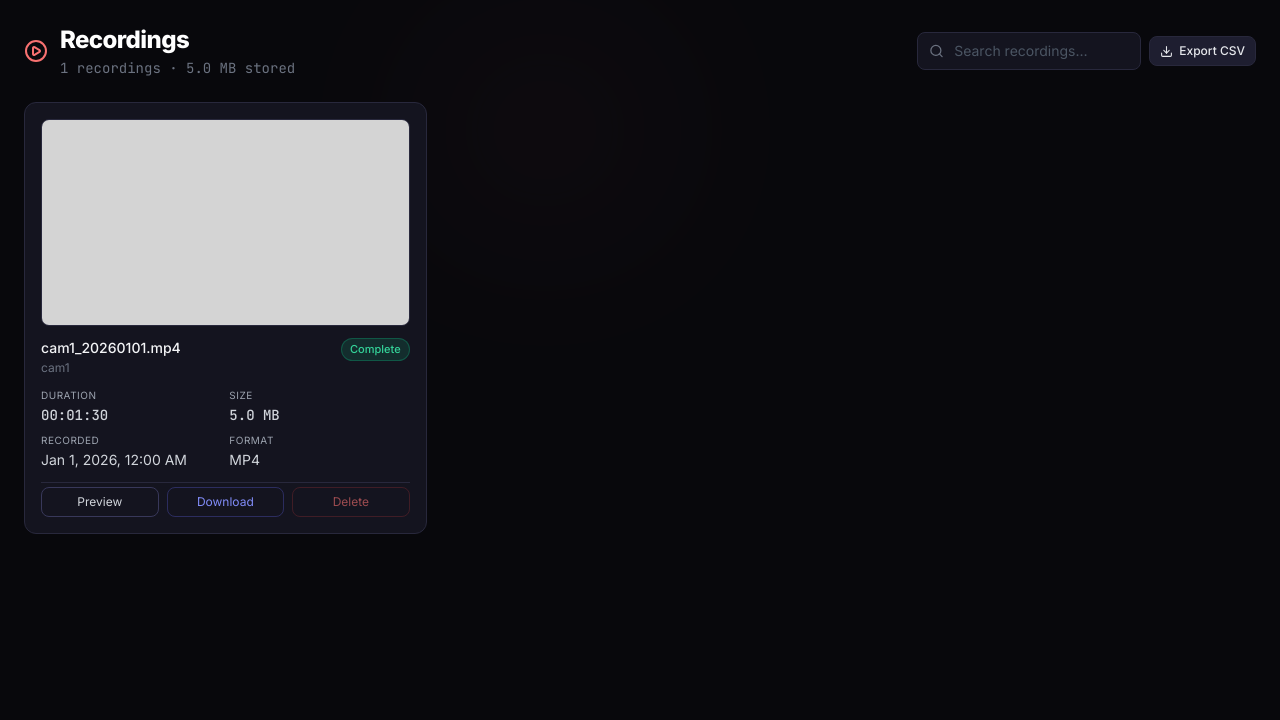
Test case: RecordingsPage › shows an error toast and restores the recording if the delete fails after the grace period
The image size is (1280, 720).
Check: the text "cam1_20260101.mp4" is shown, box [41,338,181,358]
Click the button "Delete". click: [351, 502]
box: [292,487,410,517]
Wait 6001 ms
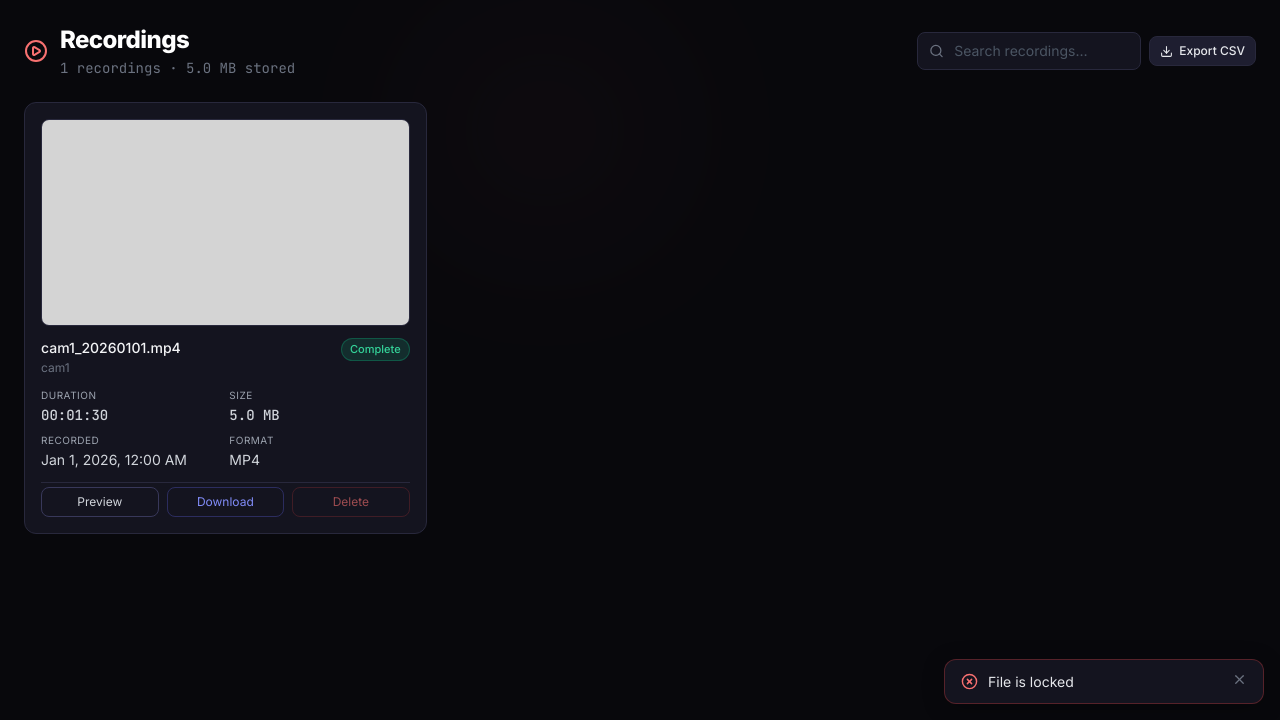
Check: the text "cam1_20260101.mp4" is shown, box [41,338,181,358]
Check: the text "File is locked" is shown, box [988,673,1074,690]
